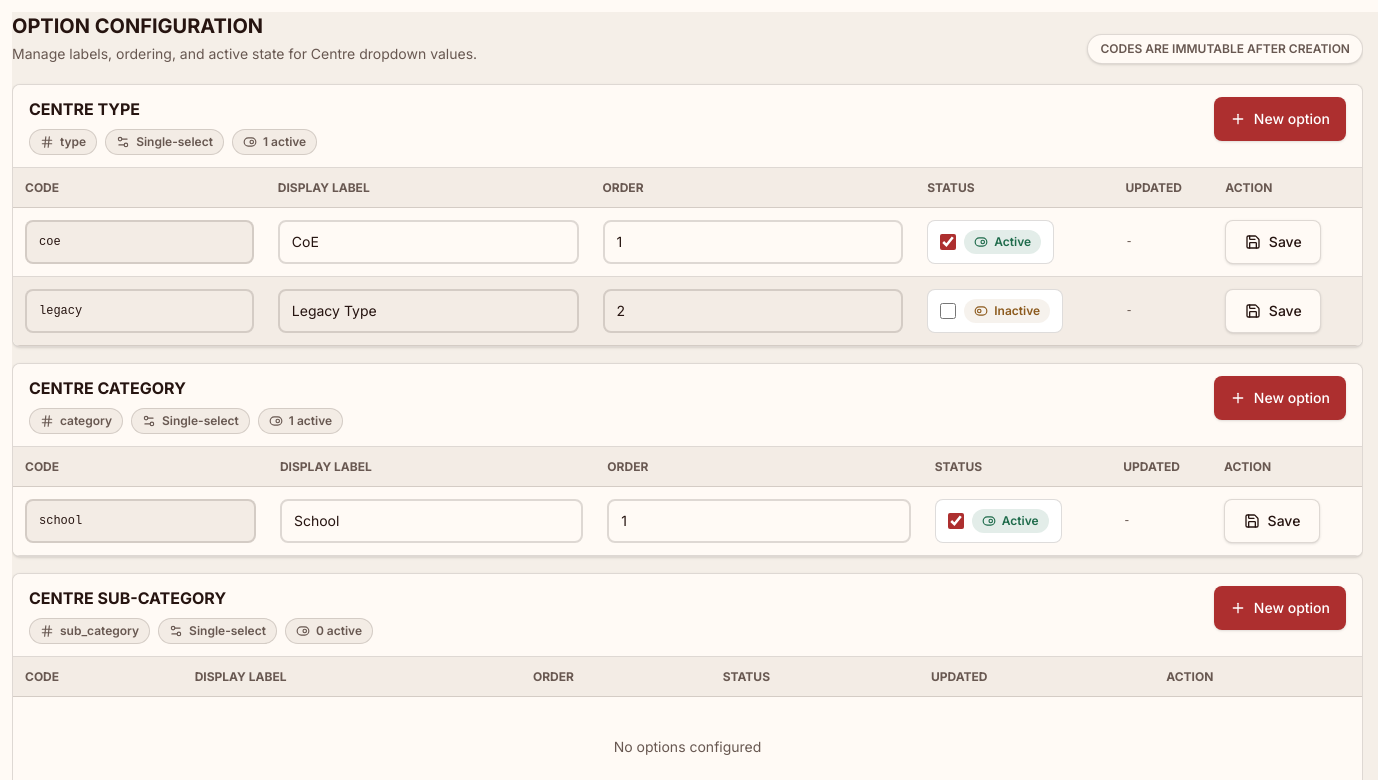
Test: CentreOptionConfig › edits option label, order, and active state without changing the code
expect the field showing "school" is disabled: met, box top-left (25, 499), bottom-right (256, 543)
Replace the text in the field named "school label" with "Partner School": (432, 521) top-left (280, 499), bottom-right (583, 543)
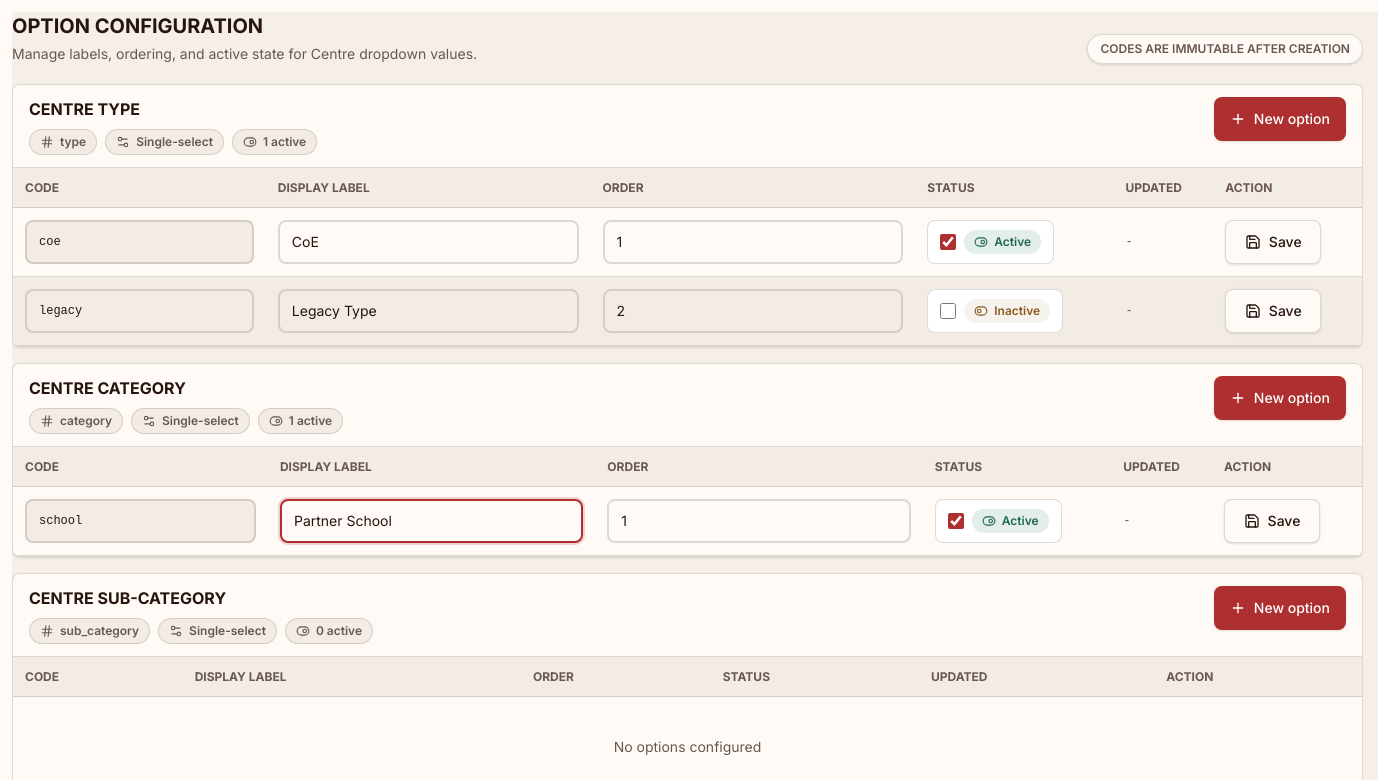
Replace the text in the number field named "school order" with "5": (759, 521) top-left (607, 499), bottom-right (911, 543)
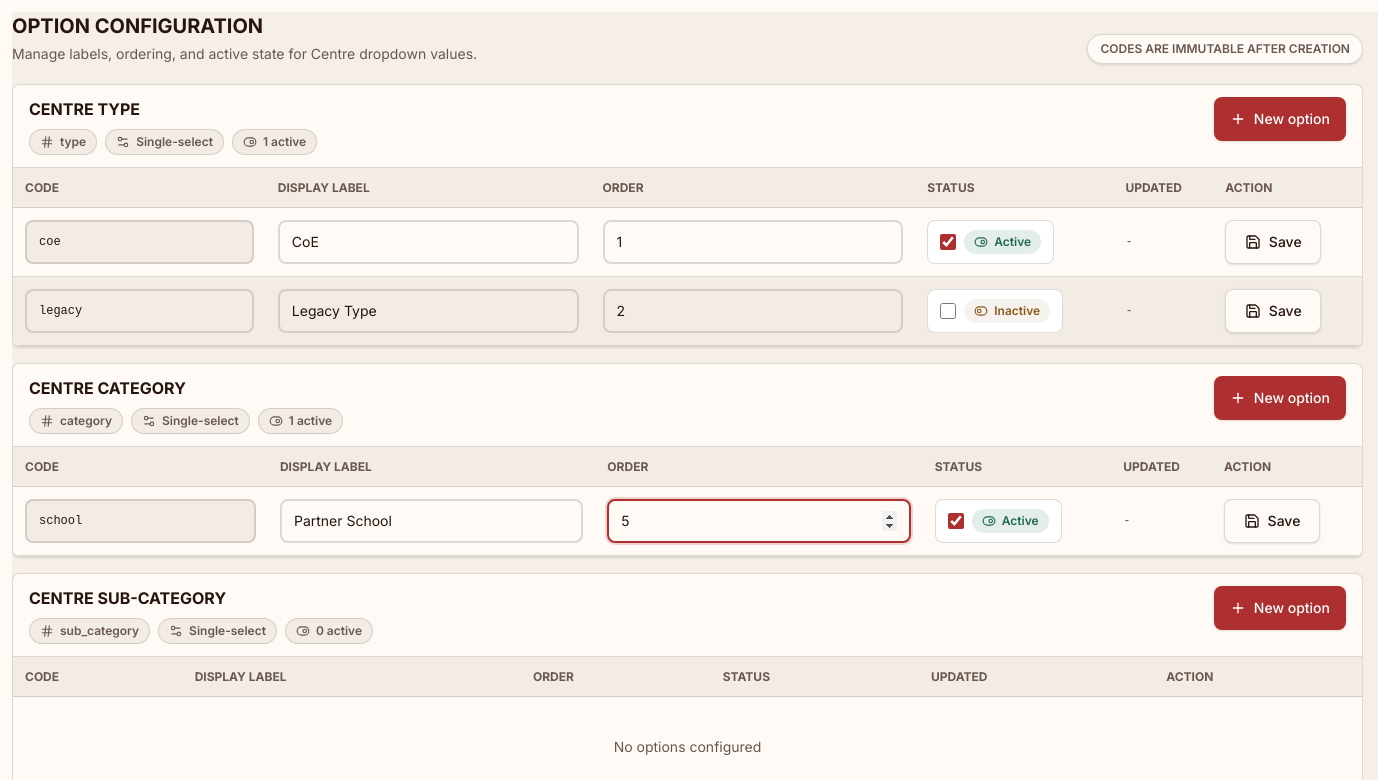
Click the 2nd checkbox labelled "Active": (956, 521) top-left (948, 513), bottom-right (964, 529)
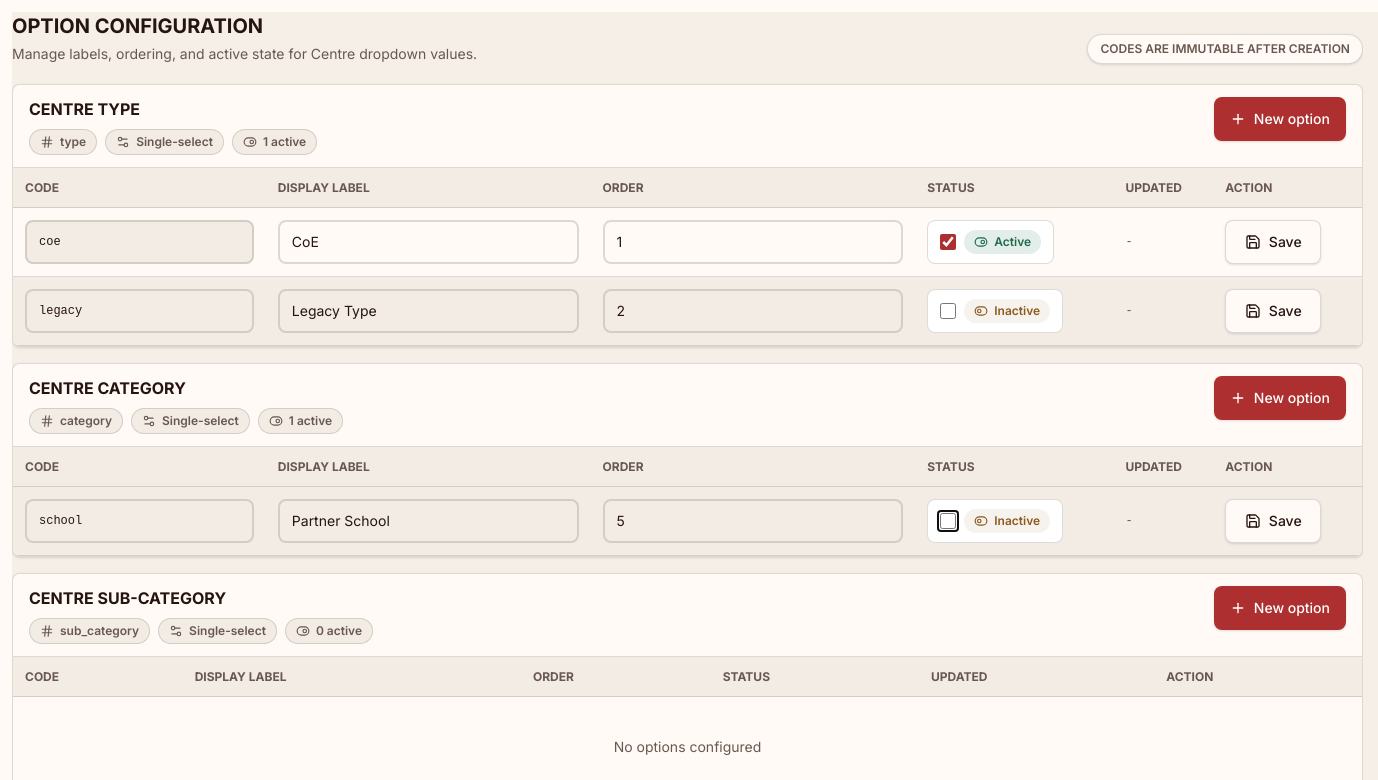
Click the 3rd button "Save": (1273, 521) top-left (1225, 499), bottom-right (1321, 543)
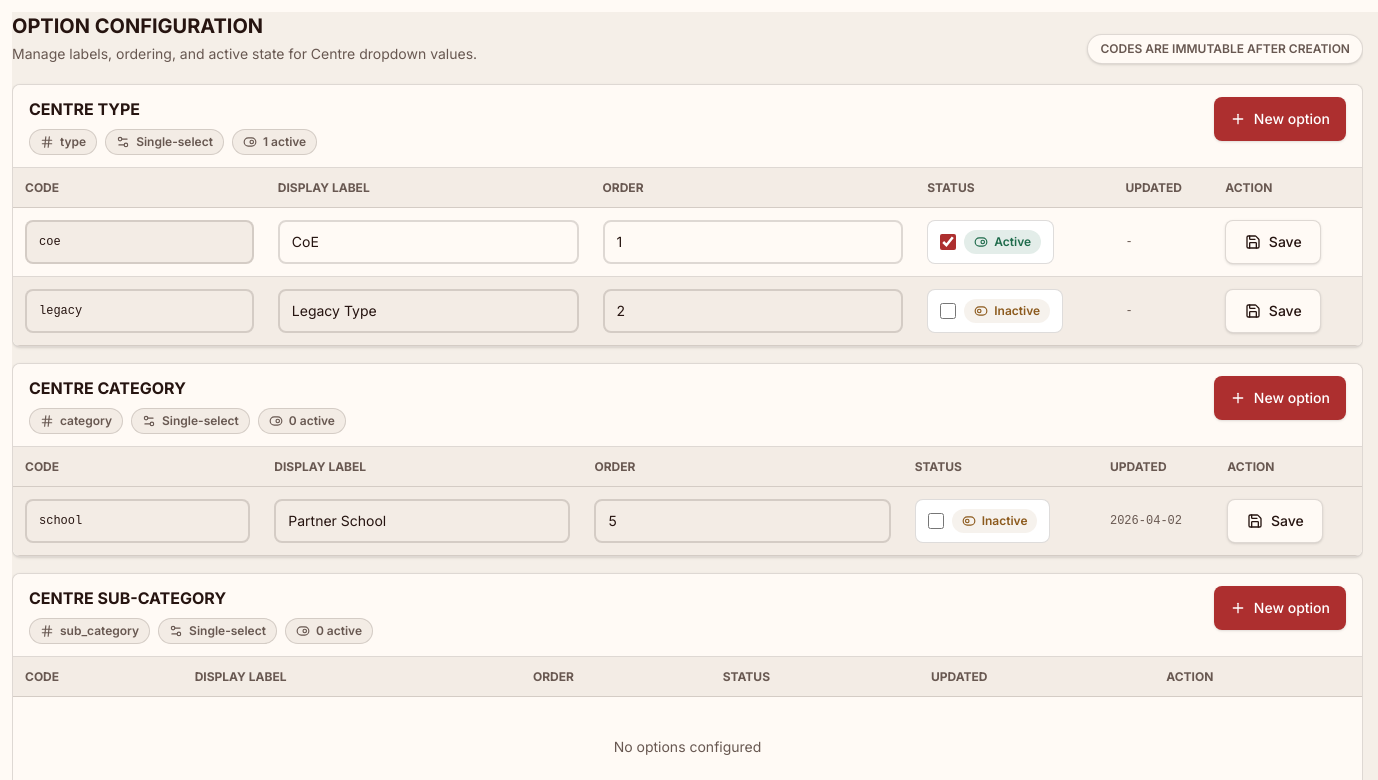
expect the field showing "school" is disabled: met, box top-left (25, 499), bottom-right (250, 543)
expect the text "Inactive" next to "2026-04-02" is shown: met, box top-left (982, 513), bottom-right (1027, 528)
expect the text "2026-04-02" is shown: met, box top-left (1110, 514), bottom-right (1182, 528)
